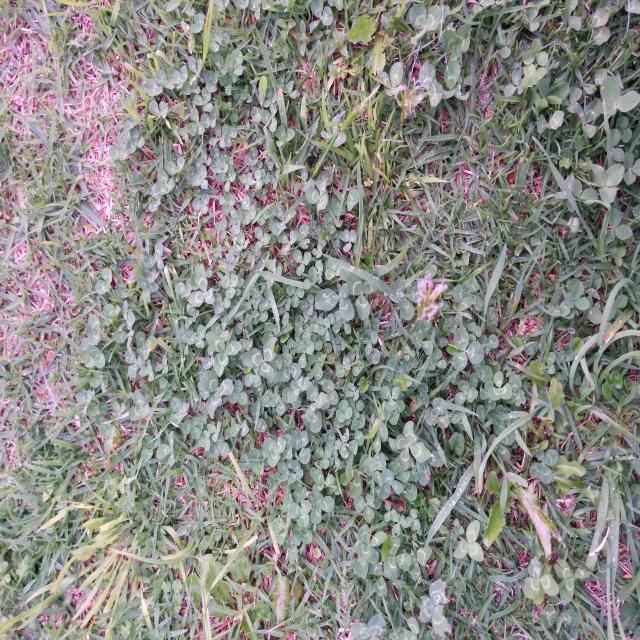Four Leaf Clover: (388, 421, 431, 473), (529, 448, 559, 484)
